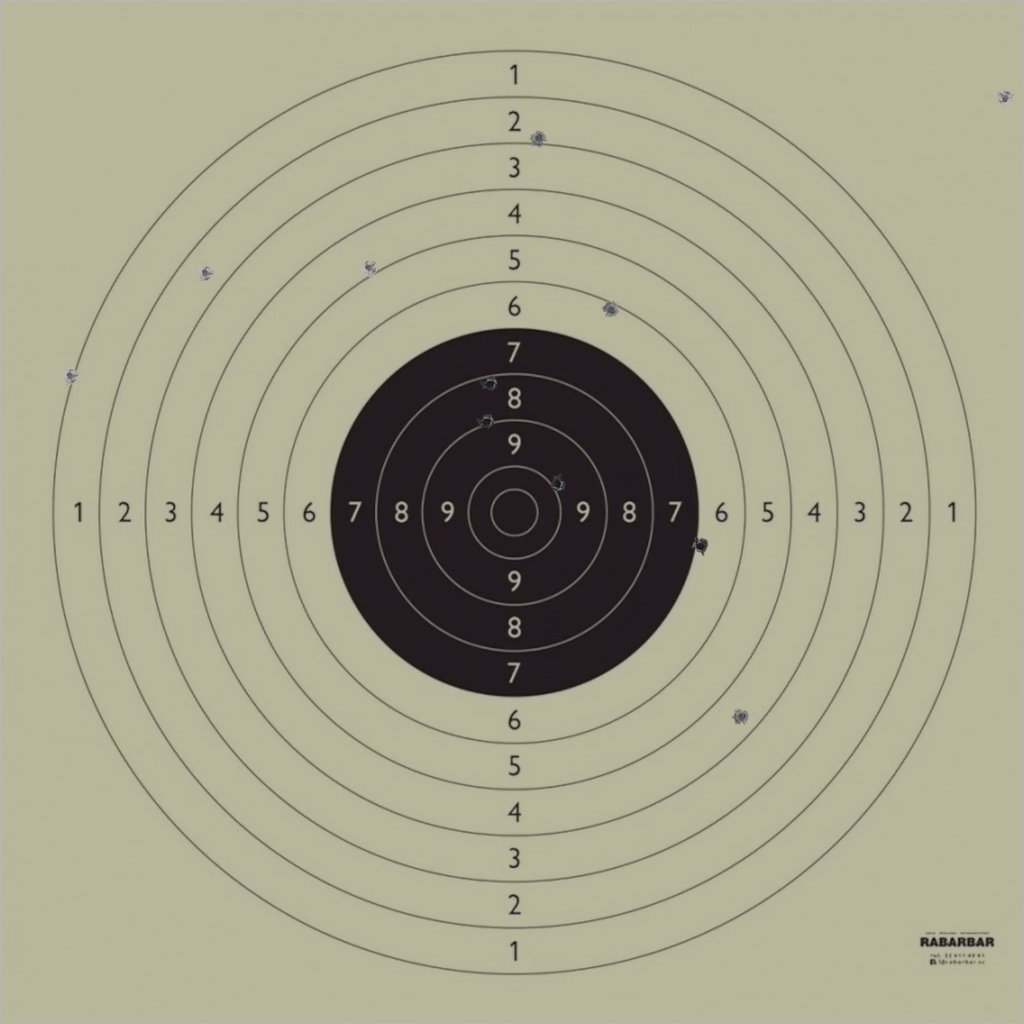0 punktow: (996, 89, 1014, 108)
1 punkt: (61, 367, 79, 385)
10 punktow: (549, 474, 567, 493)
2 punkty: (196, 264, 214, 282)
3 punkty: (529, 129, 548, 148)
4 punkty: (732, 707, 751, 726)
5 punktow: (360, 258, 378, 277)
6 punktow: (602, 301, 620, 319)
7 punktow: (691, 537, 709, 555)
8 punktow: (481, 375, 499, 393)
9 punktow: (477, 412, 496, 431)
